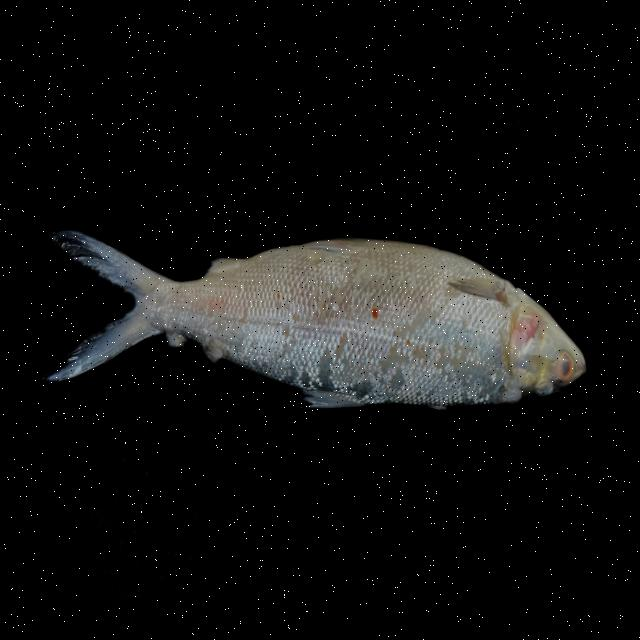945 g: (36, 204, 598, 440)
